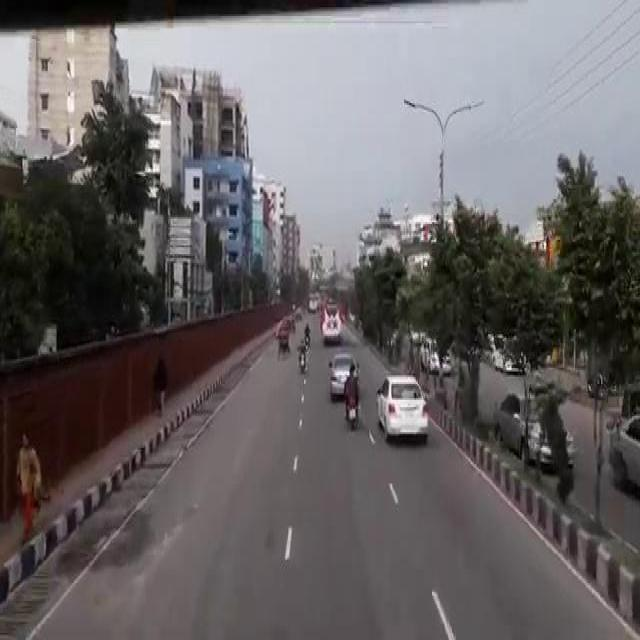10: (344, 378, 358, 426), (296, 350, 306, 372)
5: (492, 386, 574, 466), (374, 371, 428, 436), (608, 411, 638, 485), (326, 352, 358, 395), (418, 334, 450, 374), (490, 342, 526, 372)
Truck: (318, 296, 342, 337)
